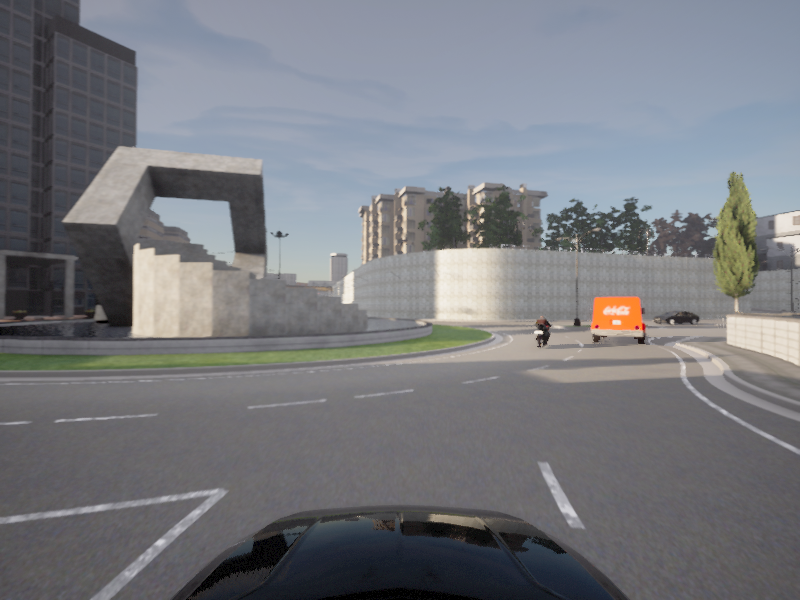vehicle: (588, 296, 646, 345), (528, 315, 554, 349)
